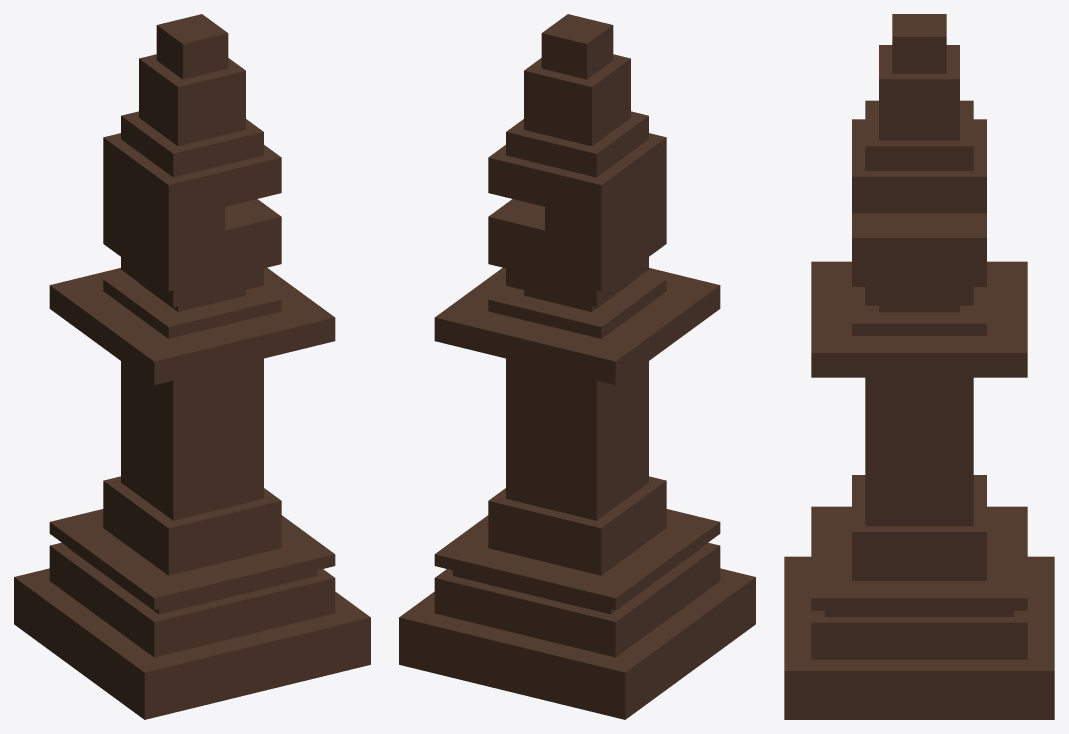
File: black_bishop.glb
3 renders of one model, left to right at view 1: azimuth 30°, elevation 25°; view 2: azimuth 150°, elevation 25°; view 3: azimuth 270°, elevation 25°, orthographic. The views are drawn at different scales.
Visible parts, largest first — view 1: Untitled; view 2: Untitled; view 3: Untitled.
Boxes of the visible parts, x1,y1,x2,y2 form: Untitled: [14, 14, 370, 719]; Untitled: [399, 14, 755, 719]; Untitled: [784, 14, 1054, 719].
Size of the model in its own units: 0.6 by 1.56 by 0.6.
Materials: 1 (1 with a texture image).
